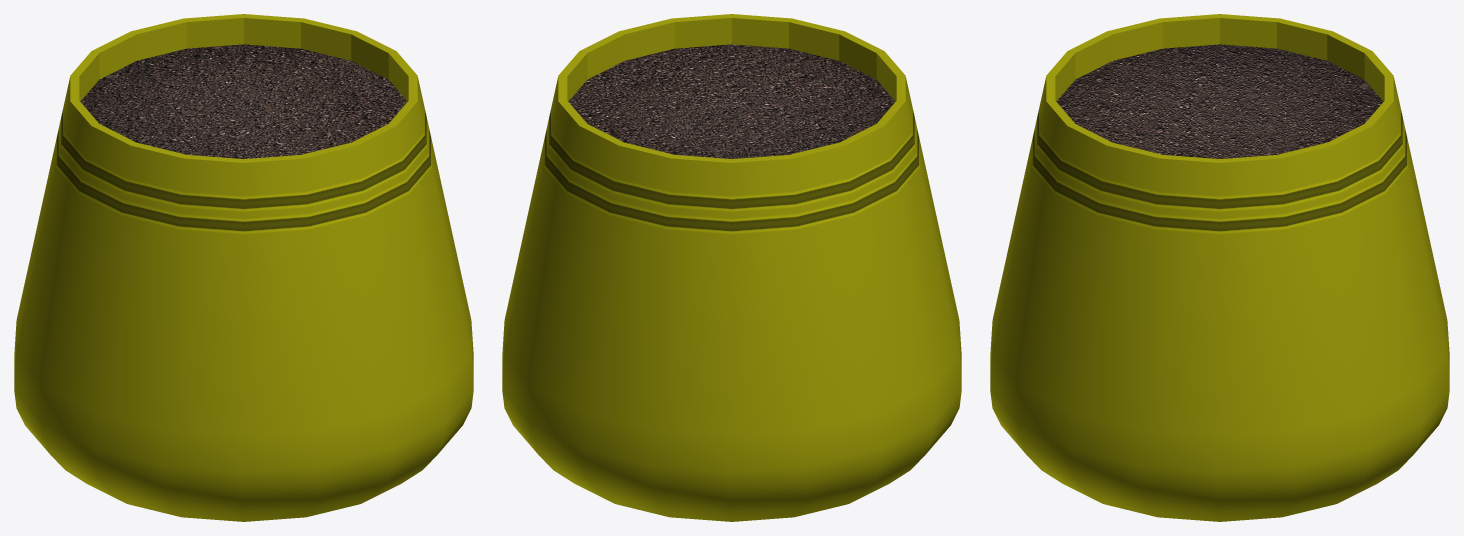
Rendered from plant pot3b.FBX.
3 views of the same model, side by side, from view 1: azimuth 30°, elevation 25°; view 2: azimuth 150°, elevation 25°; view 3: azimuth 270°, elevation 25° (orthographic).
Visible parts, largest first — view 1: plant pot3b; view 2: plant pot3b; view 3: plant pot3b.
Boxes of the visible parts, box(x1,y1,x2,y2) form: plant pot3b: box(14, 14, 473, 521); plant pot3b: box(502, 14, 961, 521); plant pot3b: box(990, 14, 1449, 521).
Size of the model in its own units: 12.59 by 12.4 by 10.61.
Materials: 1 (1 with a texture image).
